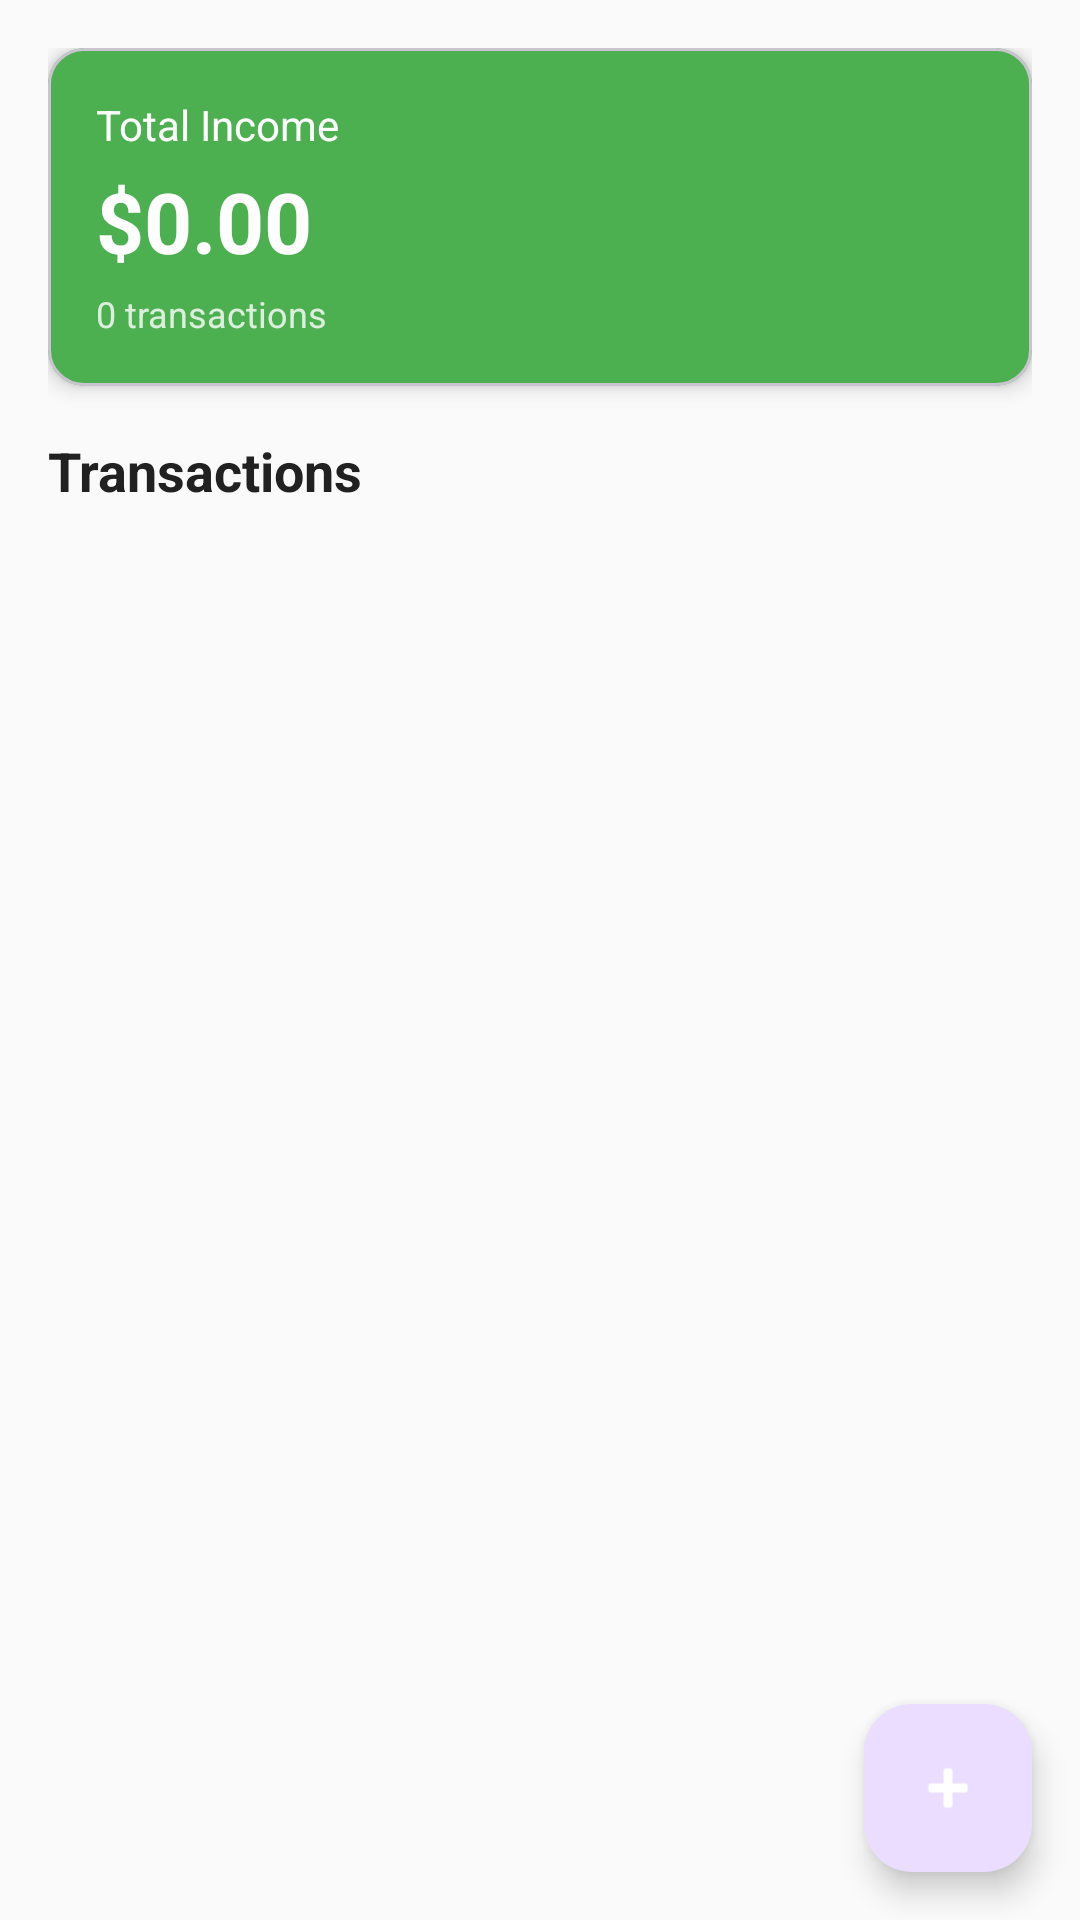

Icon click points for this 1080 x 1920 phone screenshot, format [x,y]:
Add Transaction: [948,1788]
